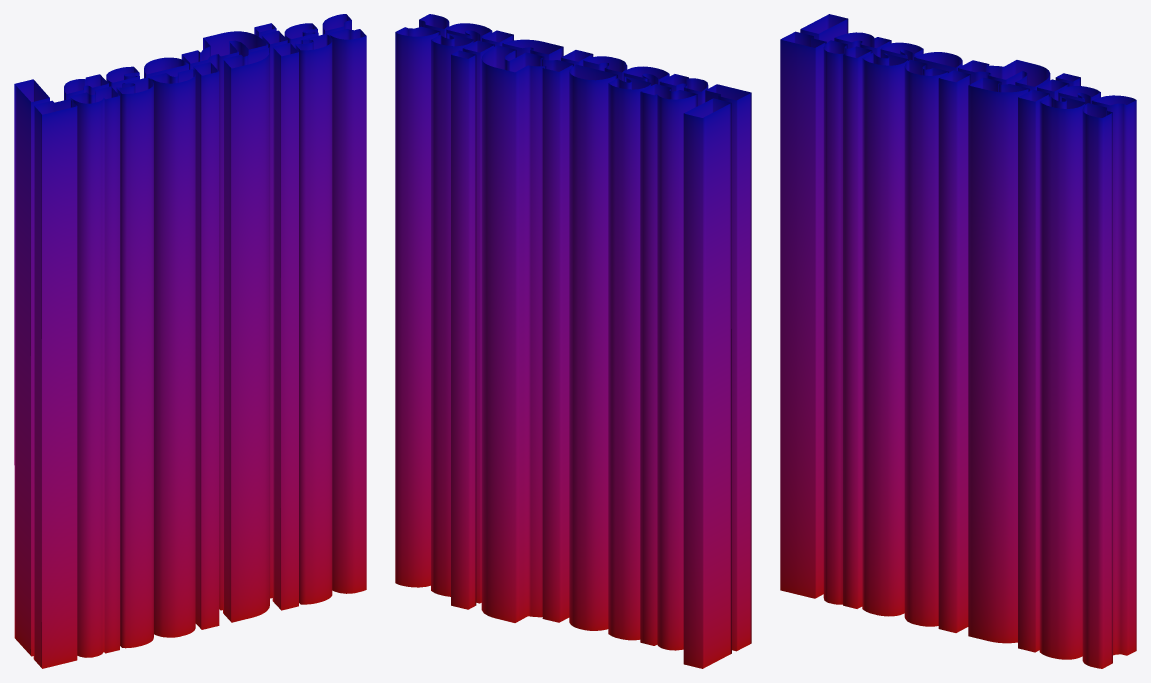
The model's file is SM_Laserdisc_Straight.fbx.
3 renders of one model, left to right at view 1: azimuth 30°, elevation 25°; view 2: azimuth 150°, elevation 25°; view 3: azimuth 330°, elevation 25°, orthographic.
Parts seen in each view (by area): view 1: polyreduce1; view 2: polyreduce1; view 3: polyreduce1.
Part boxes in pixels (x1,y1,x2,y2): polyreduce1: [14, 14, 366, 668]; polyreduce1: [395, 14, 751, 668]; polyreduce1: [780, 14, 1136, 668].
Size of the model in its own units: 1723 by 2752 by 361.
